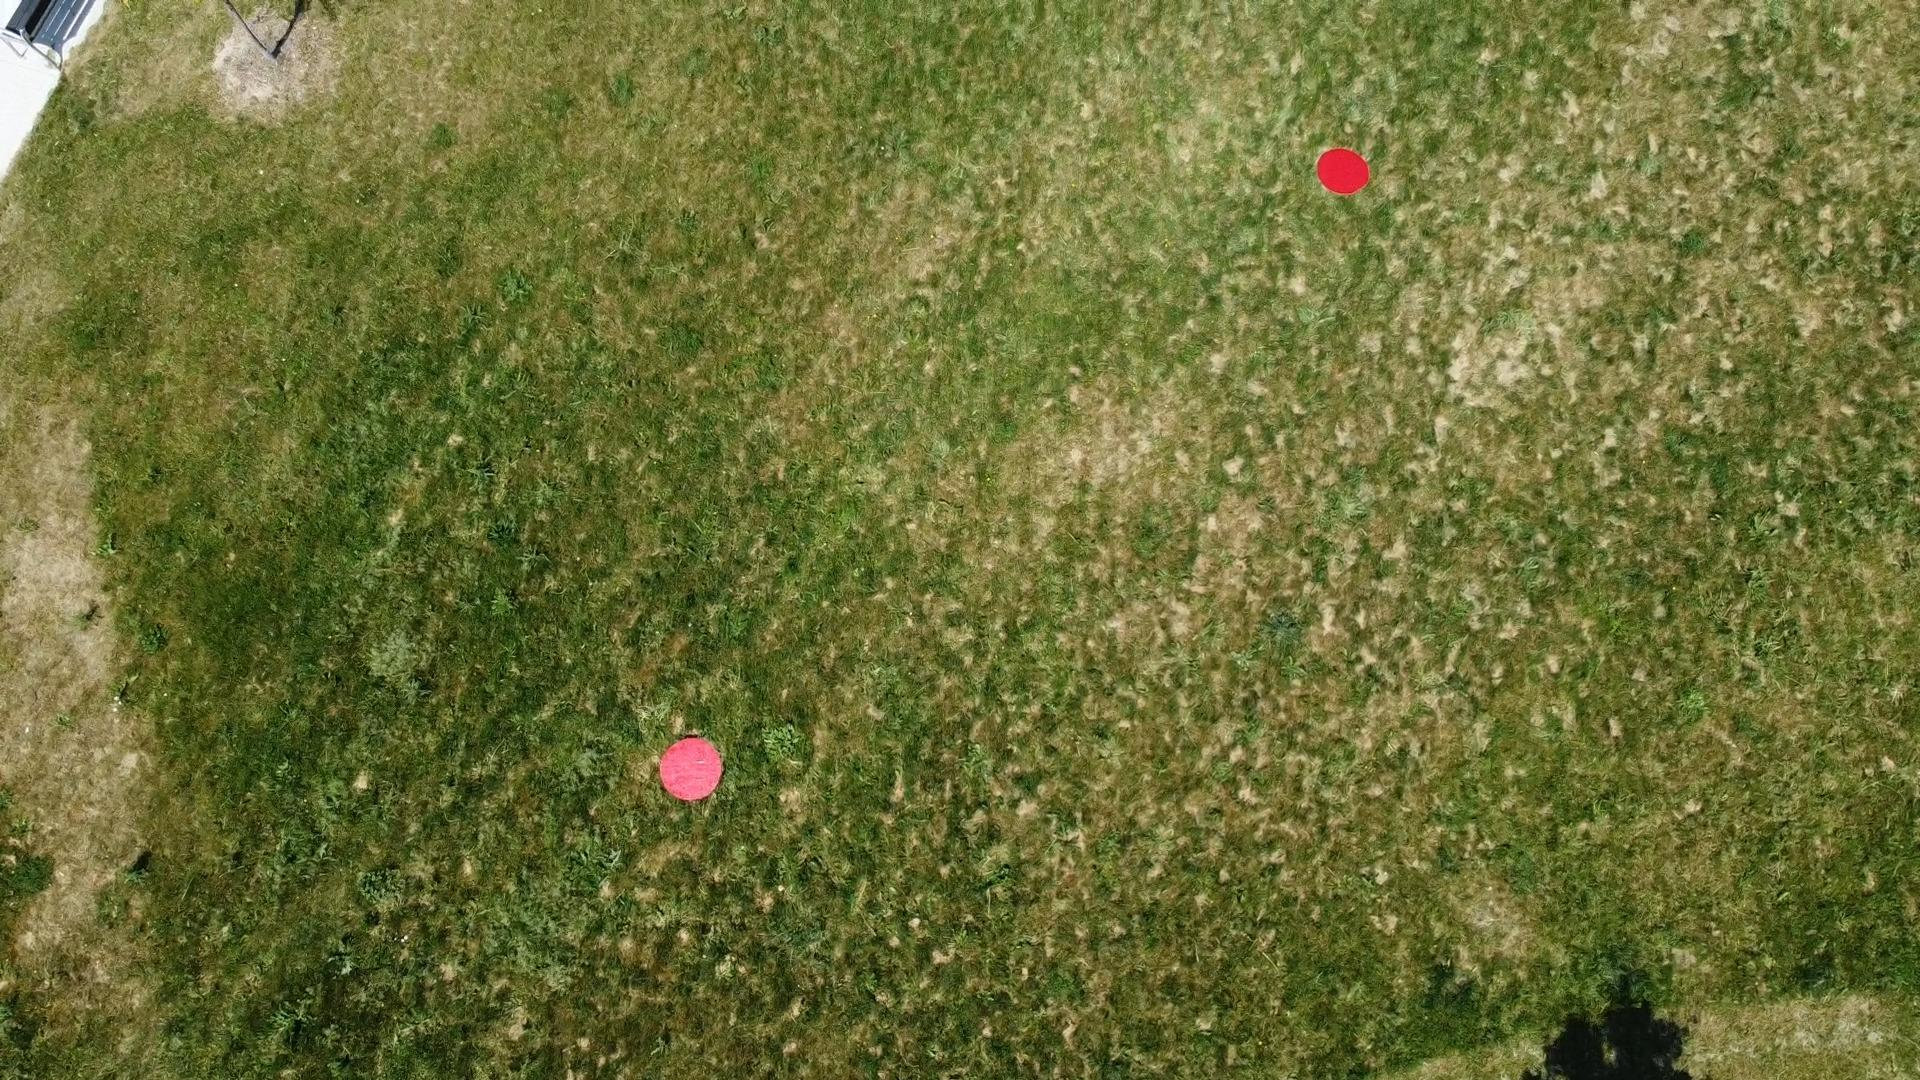Red: (657, 733, 727, 803), (1316, 146, 1373, 198)
